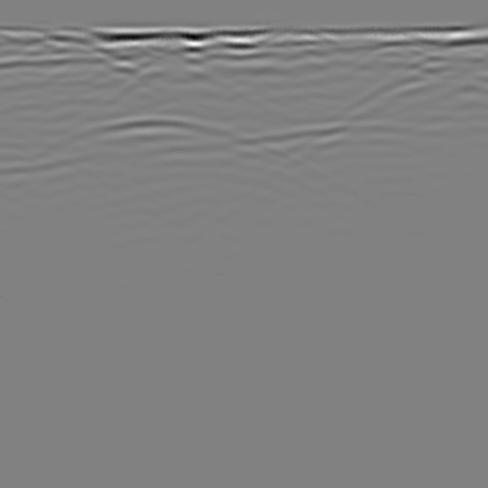hyperbola: (14, 103, 325, 206)
